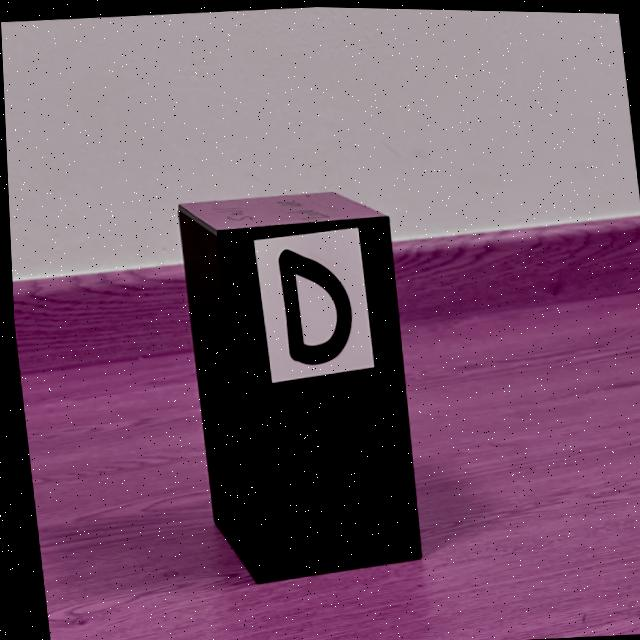D: (276, 248, 349, 364)
